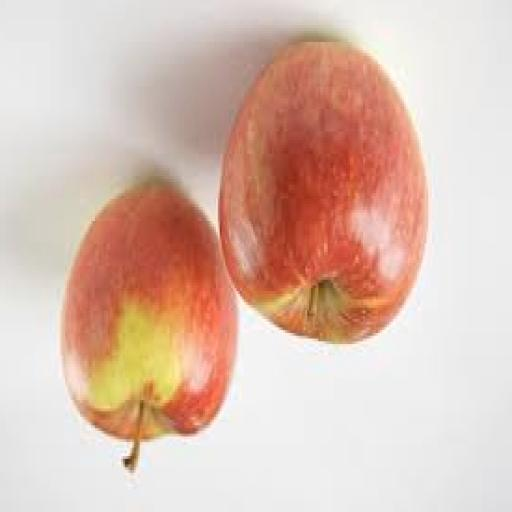apple: (219, 41, 427, 343), (61, 184, 235, 469)
